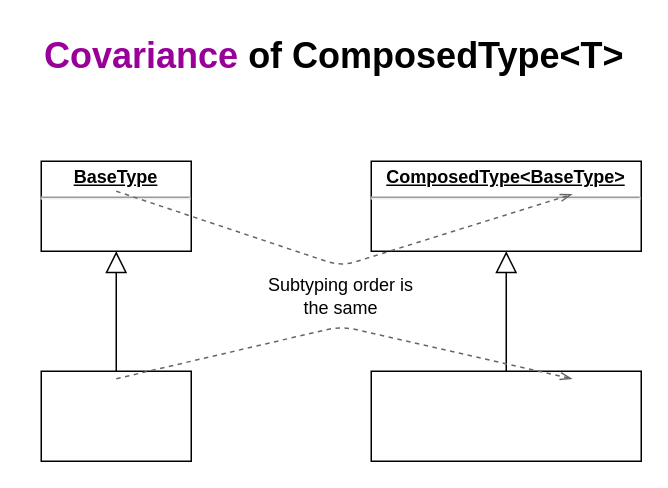
This 668x488 diagram has some shape labels left out. The centre of each missing label's shape, as x and y in pixels:
"ComposedType<SubType>" goes at (505,415).
"SubType" goes at (115,415).
